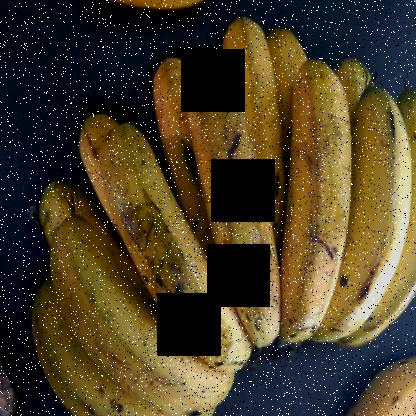ripe: (100, 123, 281, 394), (40, 224, 248, 399), (256, 57, 347, 379), (302, 80, 412, 345), (189, 82, 289, 373), (383, 74, 415, 326), (344, 351, 415, 415)
